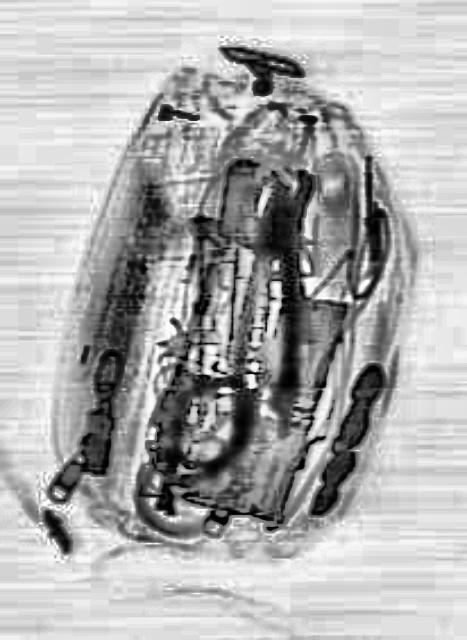Pliers: (226, 174, 314, 408)
